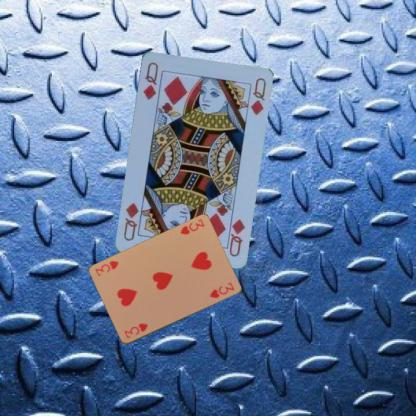3h: (121, 320, 149, 340), (177, 217, 206, 236)
Qd: (223, 212, 246, 258), (140, 59, 159, 101)
